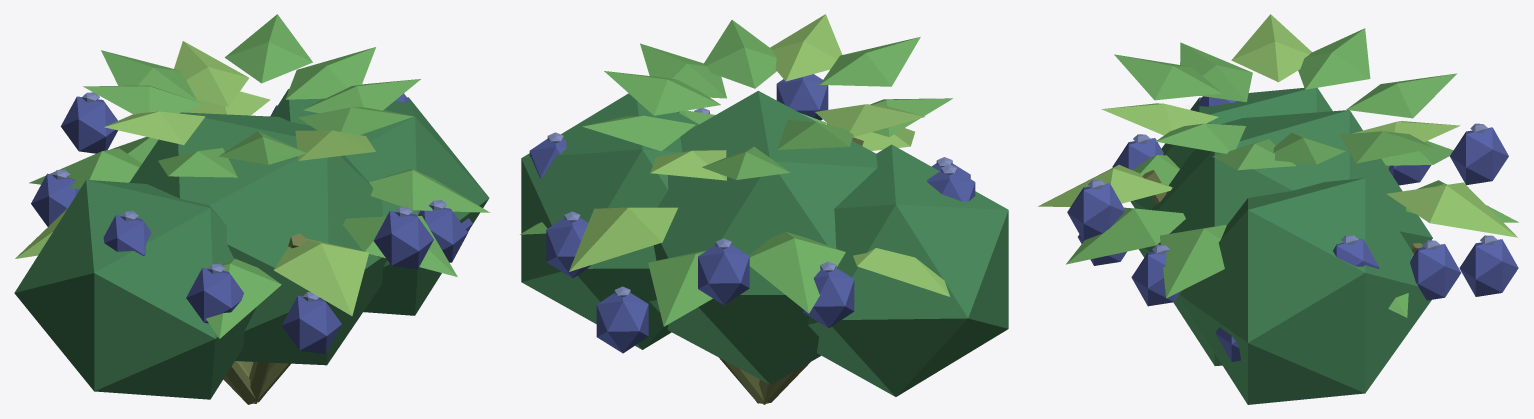
File: berry-bush.glb
3 renders of one model, left to right at view 1: azimuth 30°, elevation 25°; view 2: azimuth 150°, elevation 25°; view 3: azimuth 270°, elevation 25°, orthographic. The views are drawn at different scales.
Visible parts, largest first — view 1: Berry_bush; view 2: Berry_bush; view 3: Berry_bush.
Boxes of the visible parts, x1,y1,x2,y2 form: Berry_bush: (14,14,490,404); Berry_bush: (520,14,1008,404); Berry_bush: (1038,14,1518,404).
Bounding box in the file's own units: 1.02 × 0.7053 × 0.9911.
